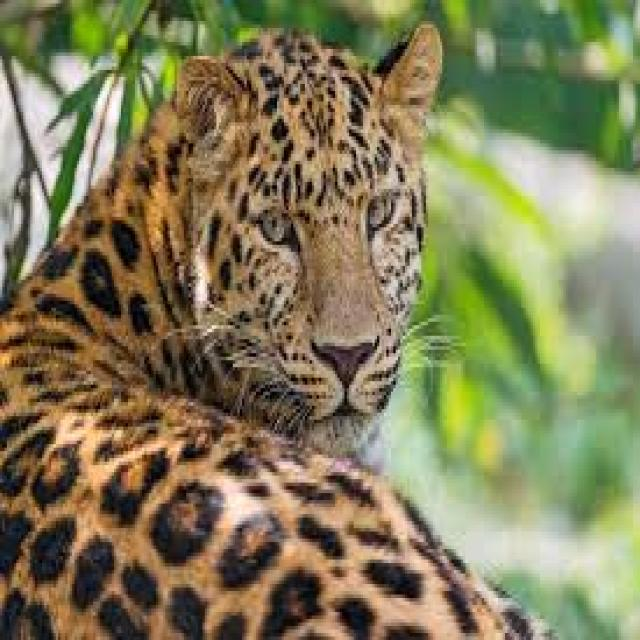Jaguar: (2, 28, 554, 640)
